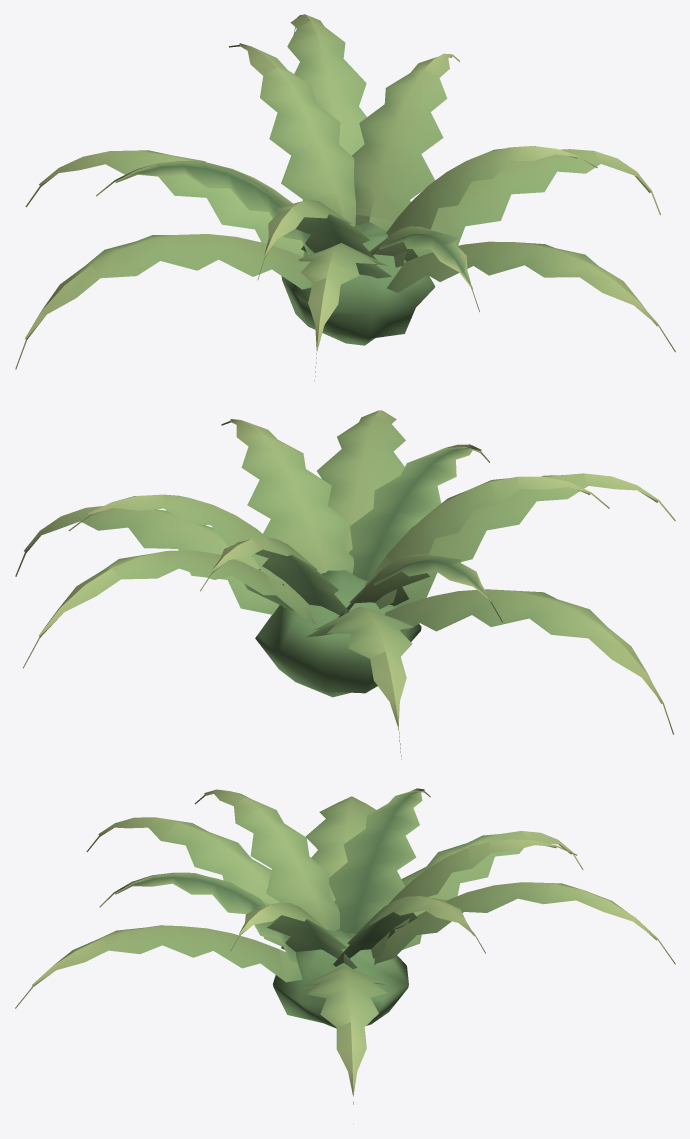
File: cliff_fern.glb
The picture shows the model from 3 angles, top to bottom: view 1: azimuth 30°, elevation 25°; view 2: azimuth 150°, elevation 25°; view 3: azimuth 270°, elevation 25°; orthographic projection. The views are drawn at different scales.
Visible parts, largest first — view 1: cliff_fern; view 2: cliff_fern; view 3: cliff_fern.
Boxes of the visible parts, x1,y1,x2,y2 form: cliff_fern: [15, 14, 675, 381]; cliff_fern: [15, 410, 675, 759]; cliff_fern: [15, 788, 675, 1124].
Size of the model in its own units: 16.53 by 5.05 by 16.45.
